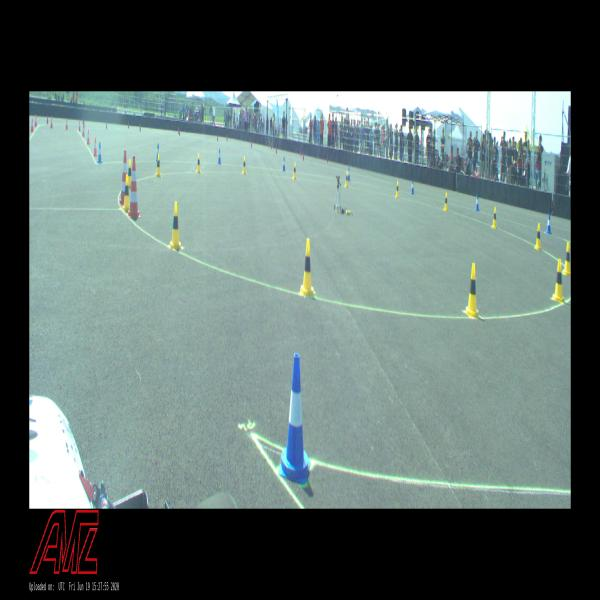blue_cone: (279, 353, 310, 484), (97, 142, 102, 162), (546, 215, 551, 234), (156, 144, 160, 161), (218, 148, 222, 164), (475, 194, 479, 210), (282, 156, 286, 171), (411, 178, 414, 194), (348, 167, 350, 181)
large_orange_cone: (126, 156, 140, 218), (120, 150, 127, 205)
orange_cone: (93, 137, 98, 156), (87, 129, 90, 144), (82, 123, 85, 137), (31, 118, 34, 132), (50, 116, 53, 128), (78, 120, 81, 131), (66, 118, 68, 130), (35, 115, 37, 126)
yellow_cone: (464, 263, 479, 317), (300, 239, 314, 296), (169, 202, 182, 250), (553, 259, 564, 303), (122, 175, 130, 210), (562, 242, 570, 275), (535, 223, 541, 250), (156, 154, 161, 177), (196, 153, 201, 173), (492, 207, 496, 228), (128, 159, 131, 185), (444, 193, 448, 212), (242, 157, 246, 174), (293, 162, 297, 179), (395, 181, 399, 198), (344, 171, 348, 187)
